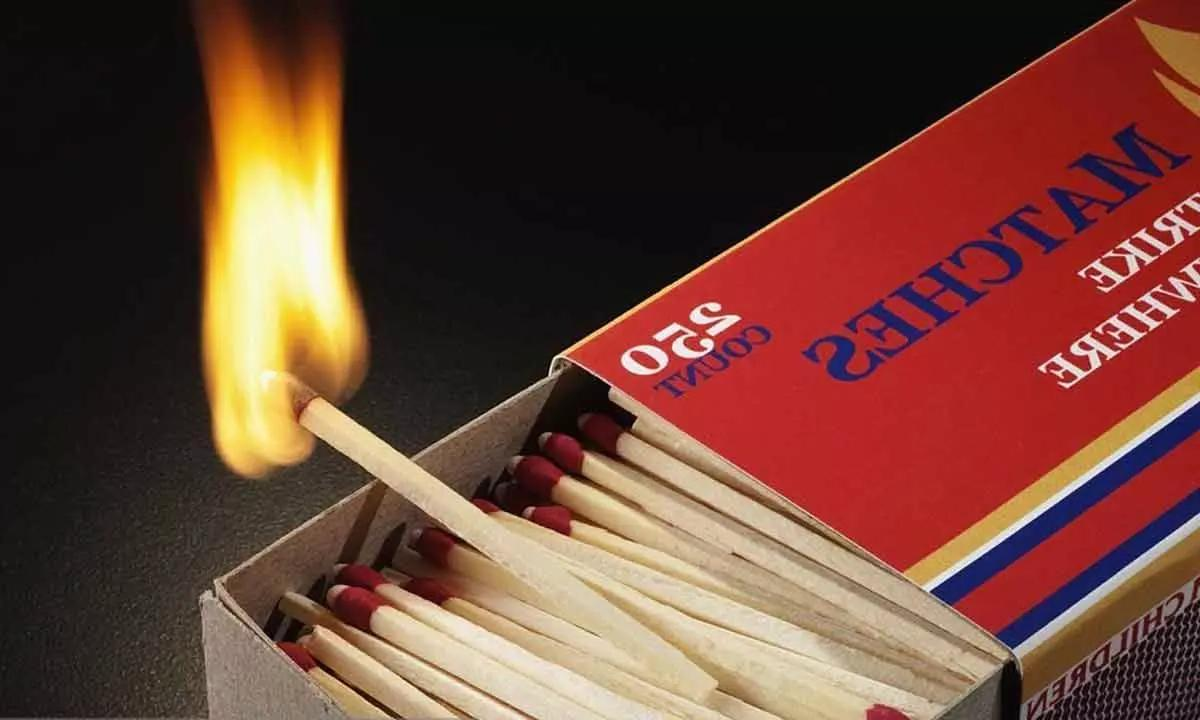controlled_fire: (124, 0, 478, 536)
